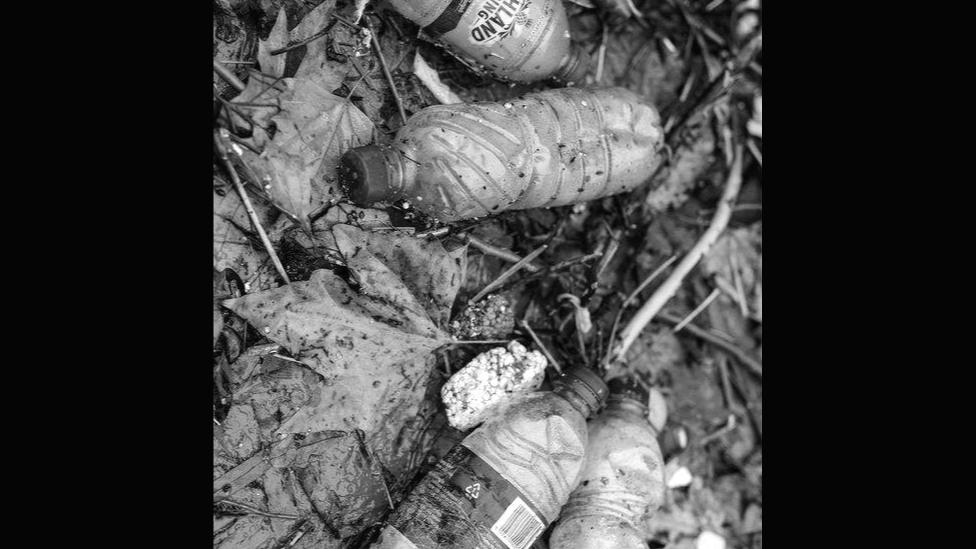bottle: (278, 348, 613, 549), (364, 75, 694, 239), (249, 0, 606, 86), (521, 381, 670, 549)
